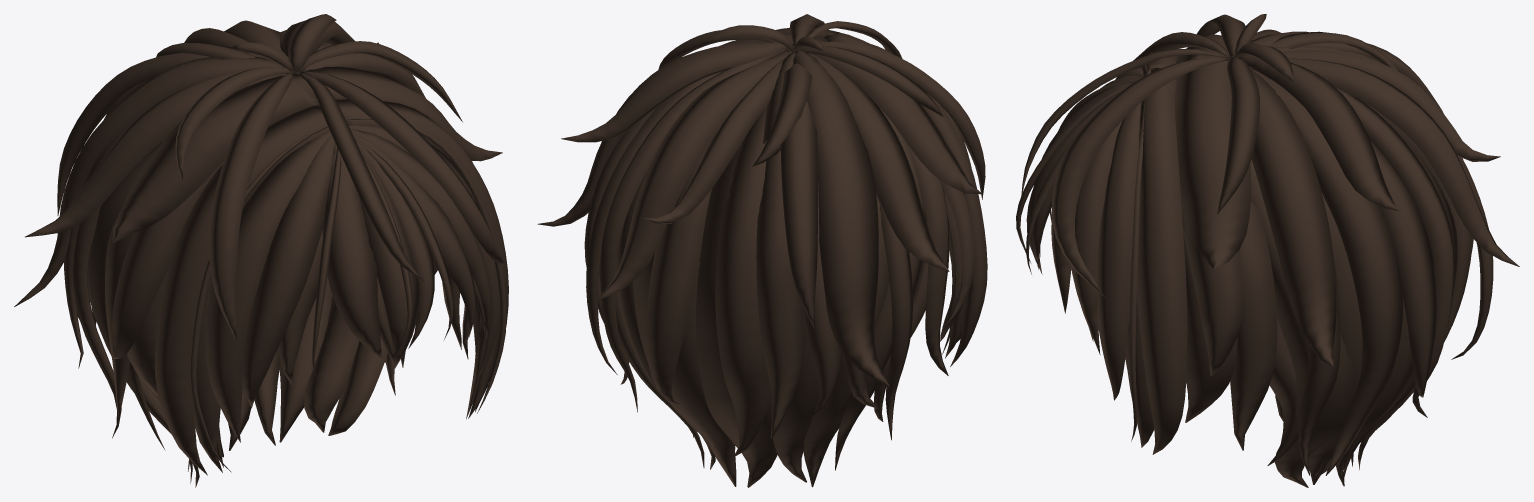
Rendered from hair_longwaves_female.glb.
3 renders of one model, left to right at view 1: azimuth 30°, elevation 25°; view 2: azimuth 150°, elevation 25°; view 3: azimuth 270°, elevation 25°, orthographic. The views are drawn at different scales.
Parts seen in each view (by area): view 1: hair_longwaves_female; view 2: hair_longwaves_female; view 3: hair_longwaves_female.
Boxes of the visible parts, x1=… form: hair_longwaves_female: x1=14, y1=14, x2=508, y2=487; hair_longwaves_female: x1=537, y1=14, x2=987, y2=487; hair_longwaves_female: x1=1016, y1=14, x2=1519, y2=487.
Bounding box in the file's own units: 0.2392 × 0.2343 × 0.2421.
